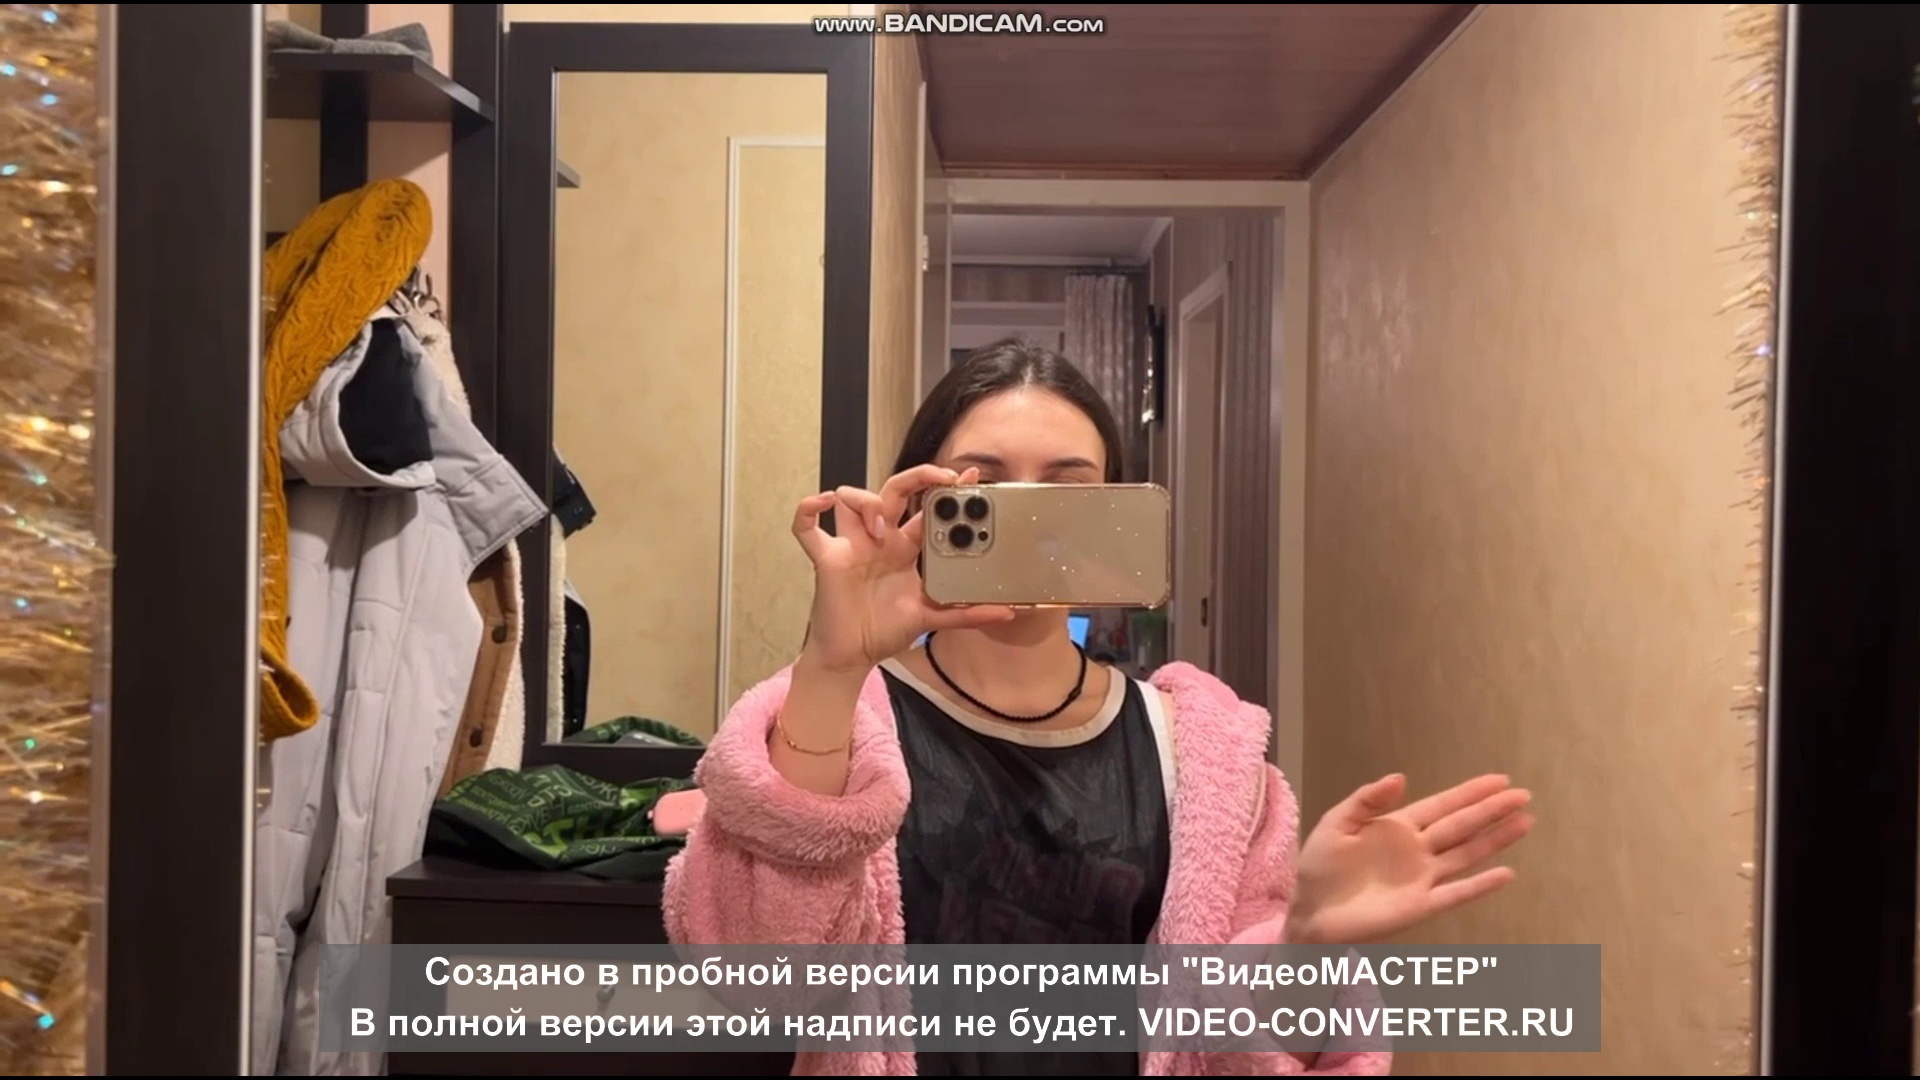Ладонь: (1291, 774, 1530, 935)
